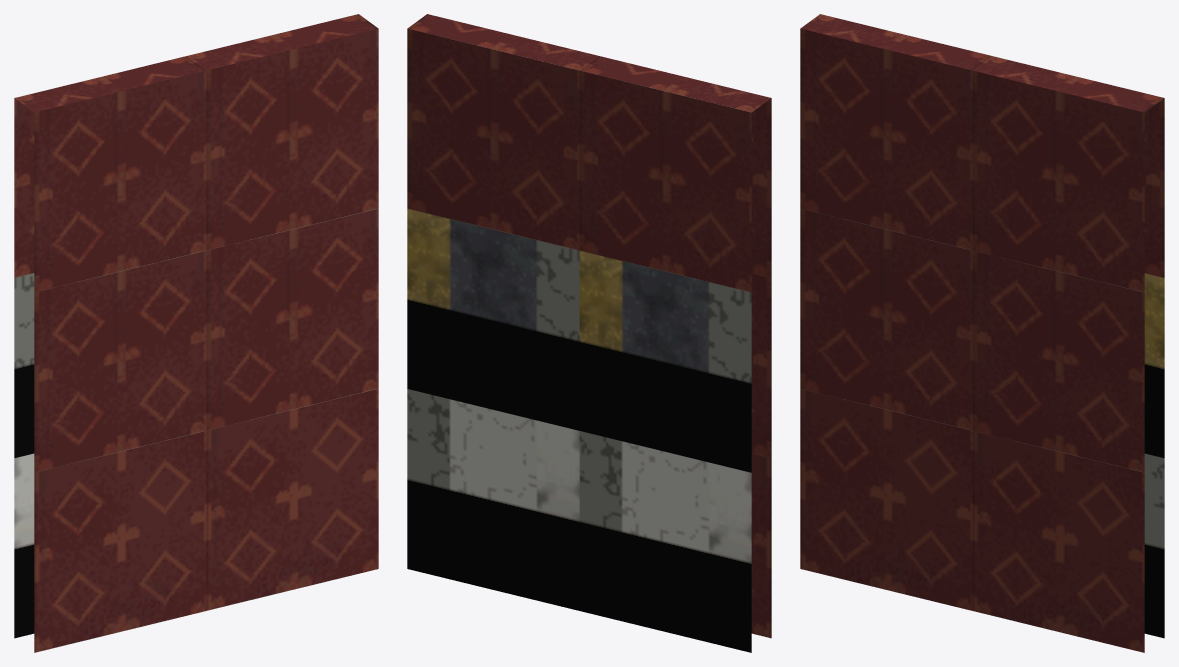
File: SM_wall_tiled.fbx
The picture shows the model from 3 angles, left to right: view 1: azimuth 30°, elevation 25°; view 2: azimuth 150°, elevation 25°; view 3: azimuth 330°, elevation 25°; orthographic projection.
Parts seen in each view (by area): view 1: wall_tiled; view 2: wall_tiled; view 3: wall_tiled.
Boxes of the visible parts, left/top/right/bottom form: wall_tiled: left=14, top=14, right=378, bottom=652; wall_tiled: left=407, top=14, right=771, bottom=652; wall_tiled: left=800, top=14, right=1164, bottom=652.
Size of the model in its own units: 2 by 3 by 0.2.
